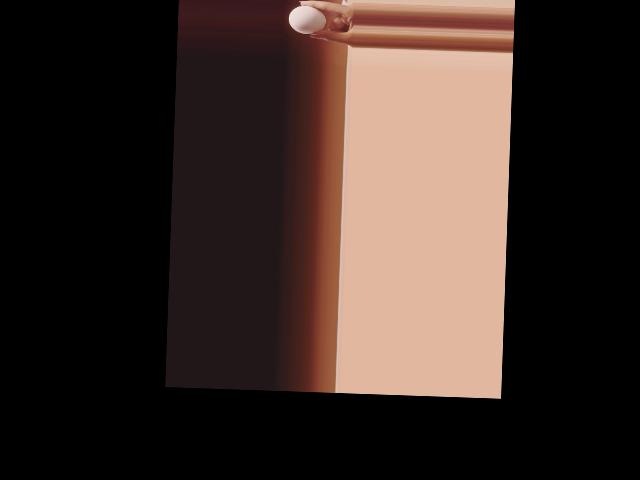egg: (288, 5, 326, 35)
